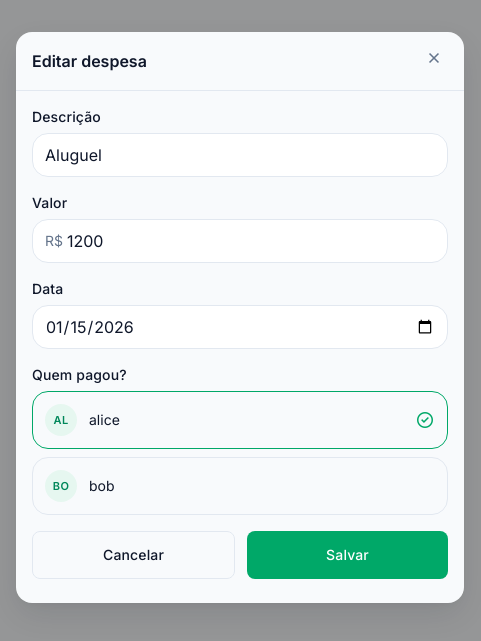
Test: EditarDespesaModal — validação › exibe erro se valor = 0
Replace the text in the number field showing "1200" with "0" at (255, 240), box [63,220,447,262]
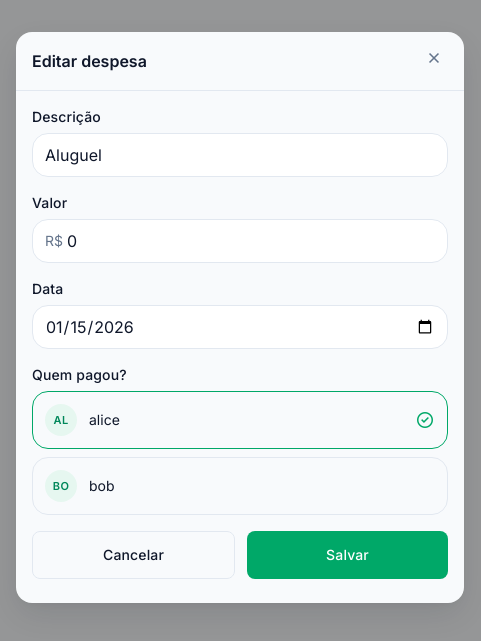
Submit the form showing "Aluguel"
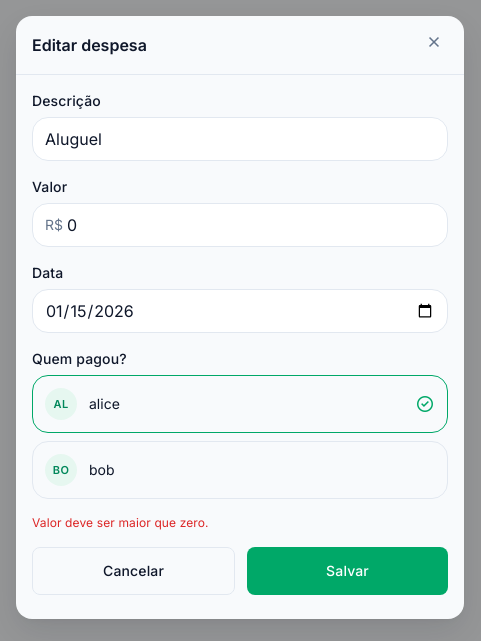
Check: the text "Valor deve ser maior que zero." is shown, box [32,514,209,530]
